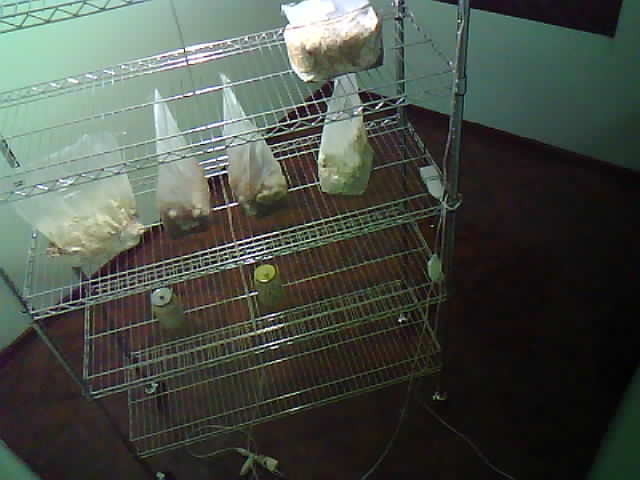bloco: (21, 129, 135, 278), (223, 83, 285, 219), (316, 71, 381, 191), (157, 89, 206, 245), (292, 2, 381, 86)
